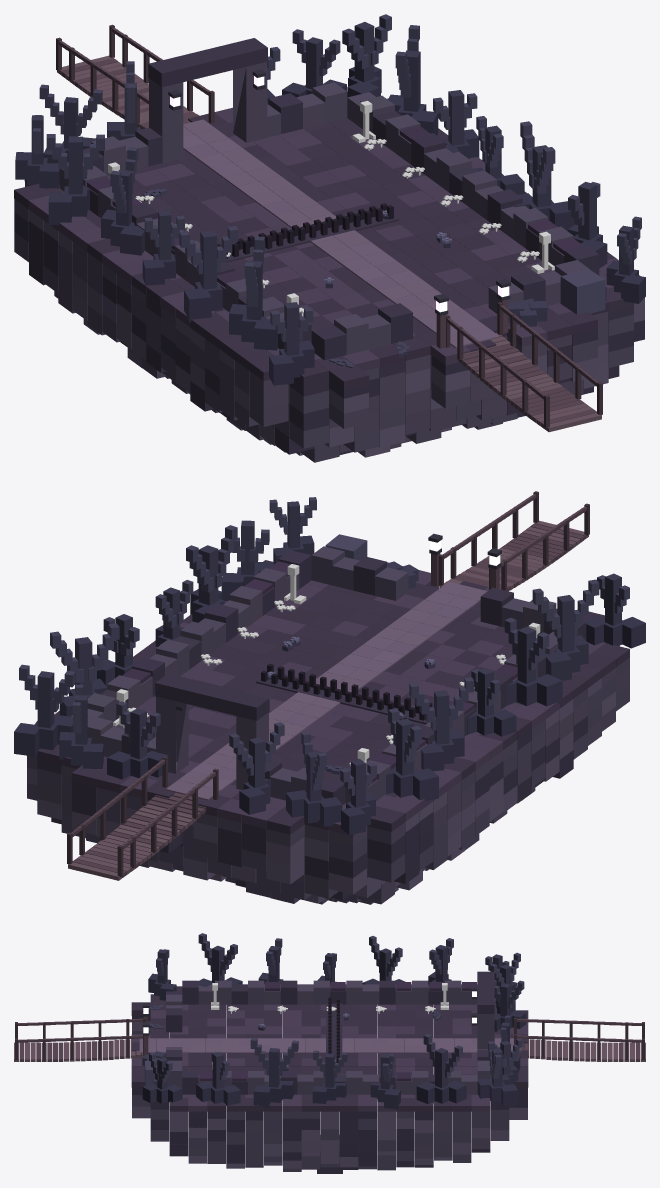
File: room_spikes_polluted.glb
The picture shows the model from 3 angles, top to bottom: view 1: azimuth 30°, elevation 25°; view 2: azimuth 150°, elevation 25°; view 3: azimuth 270°, elevation 25°; orthographic projection. The views are drawn at different scales.
Visible parts, largest first — view 1: room_spikes_blocks, tree4_(0, 0).001, tree4_(0, 0).002, tree2_(0, 0).001, tree0_(0, 0).001, tree5_(0, 0).001, tree2_(0, 0).002, tree1_(0, 0).003, tree5_(0, 0).002, tree1_(0, 0).001, tree3_(0, 0).002, tree0_(0, 0).002 (+8 smaller); view 2: room_spikes_blocks, tree1_(0, 0).003, tree2_(0, 0).001, tree4_(0, 0).001, tree2_(0, 0).002, tree4_(0, 0).002, tree5_(0, 0).002, tree0_(0, 0).001, tree4_(0, 0).003, tree5_(0, 0).001, tree2_(0, 0).003, tree2_(0, 0).004 (+8 smaller); view 3: room_spikes_blocks, tree5_(0, 0).002, tree5_(0, 0).001, tree1_(0, 0).003, tree3_(0, 0).001, tree1_(0, 0).002, tree1_(0, 0).001, tree2_(0, 0).001, tree2_(0, 0).004, tree3_(0, 0).002, tree2_(0, 0).002, tree0_(0, 0).001 (+5 smaller).
Part boxes in pixels (<box>): room_spikes_blocks: <box>14,24,644,462</box>; tree4_(0, 0).001: <box>179,226,238,322</box>; tree4_(0, 0).002: <box>46,134,104,225</box>; tree2_(0, 0).001: <box>229,236,277,350</box>; tree0_(0, 0).001: <box>269,302,314,385</box>; tree5_(0, 0).001: <box>514,121,574,230</box>; tree2_(0, 0).002: <box>101,146,144,255</box>; tree1_(0, 0).003: <box>342,14,391,97</box>; tree5_(0, 0).002: <box>388,25,438,135</box>; tree1_(0, 0).001: <box>606,216,645,303</box>; tree3_(0, 0).002: <box>433,90,479,159</box>; tree0_(0, 0).002: <box>142,210,184,285</box>; room_spikes_blocks: <box>27,491,629,904</box>; tree1_(0, 0).003: <box>14,664,75,756</box>; tree2_(0, 0).001: <box>532,579,599,680</box>; tree4_(0, 0).001: <box>504,617,562,706</box>; tree2_(0, 0).002: <box>409,677,473,771</box>; tree4_(0, 0).002: <box>386,708,438,801</box>; tree5_(0, 0).002: <box>50,623,119,716</box>; tree0_(0, 0).001: <box>583,573,645,648</box>; tree4_(0, 0).003: <box>107,701,168,779</box>; tree5_(0, 0).001: <box>186,525,237,622</box>; tree2_(0, 0).003: <box>286,731,342,826</box>; tree2_(0, 0).004: <box>229,722,284,814</box>; room_spikes_blocks: <box>14,971,645,1173</box>; tree5_(0, 0).002: <box>416,1034,466,1103</box>; tree5_(0, 0).001: <box>250,1038,298,1107</box>; tree1_(0, 0).003: <box>477,1041,517,1106</box>; tree3_(0, 0).001: <box>196,1052,240,1105</box>; tree1_(0, 0).002: <box>312,1050,347,1103</box>; tree1_(0, 0).001: <box>142,1052,182,1103</box>; tree2_(0, 0).001: <box>198,933,242,987</box>; tree2_(0, 0).004: <box>494,980,526,1031</box>; tree3_(0, 0).002: <box>370,1054,400,1109</box>; tree2_(0, 0).002: <box>362,936,405,984</box>; tree0_(0, 0).001: <box>148,949,176,1000</box>.
Bounding box in the file's own units: 17.83 × 12.1 × 38.5.
